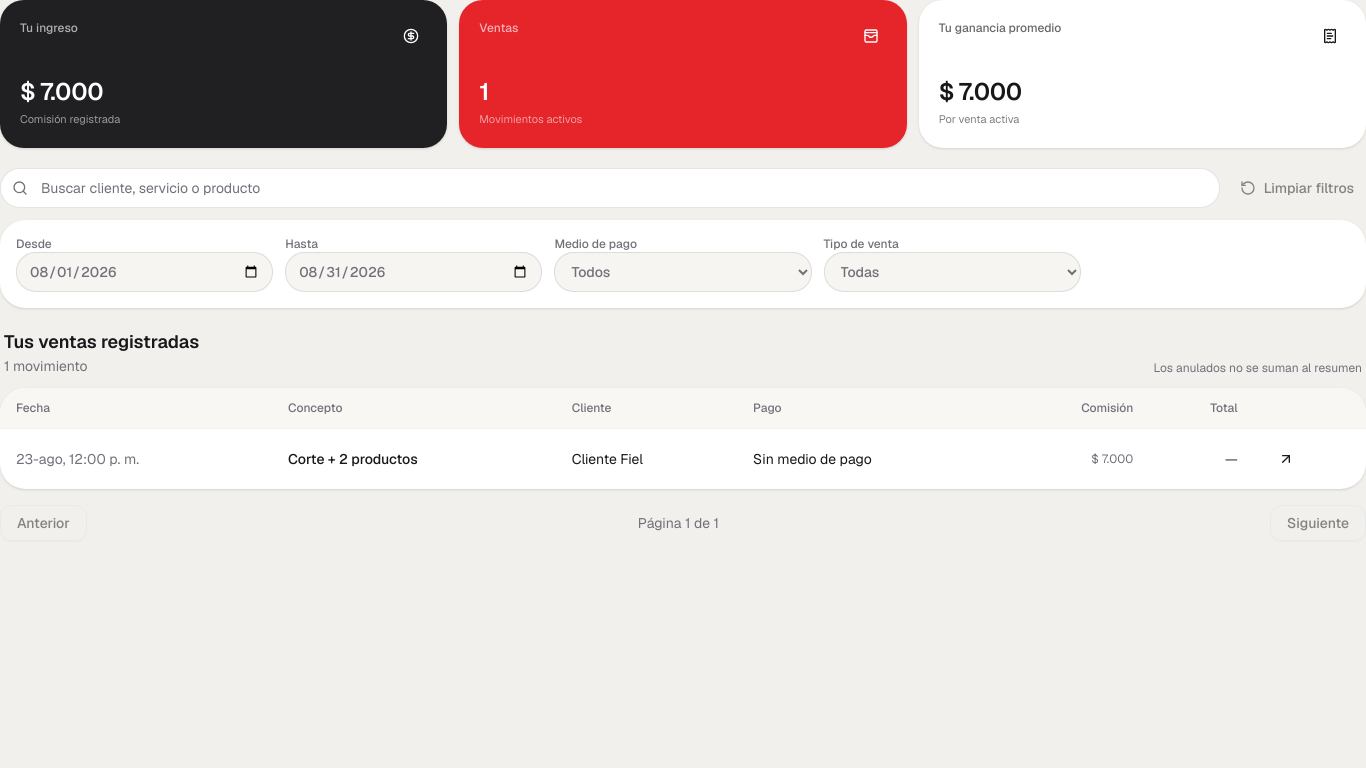
IncomesView (employee) › never leaks manager-only financial keys through the employee detail sheet
Step 1. Click the button named "abrir ingreso" → [1286, 459], box [1270,443,1302,475]
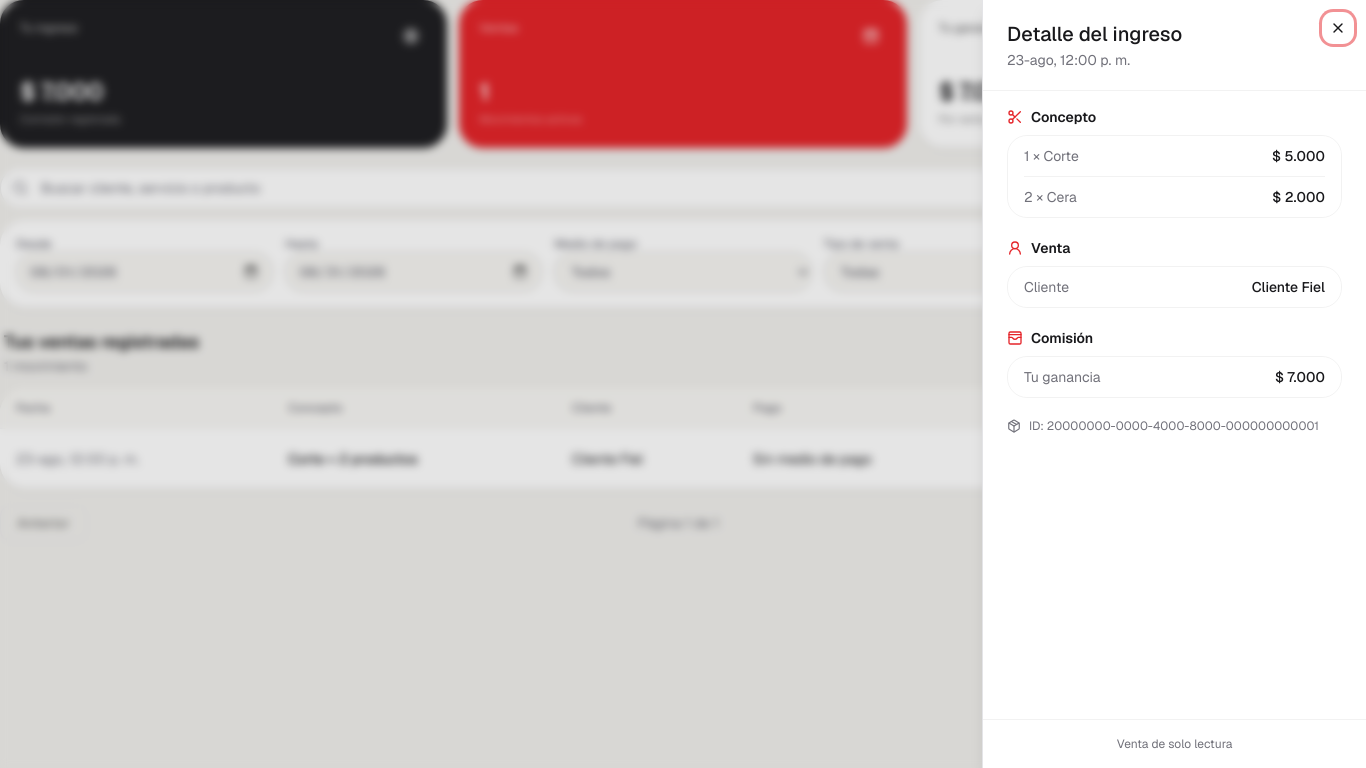
Result: the dialog shows "Tu ganancia" at [1024,368,1100,386]
Result: the dialog shows "7.000" at [1275,368,1325,386]
